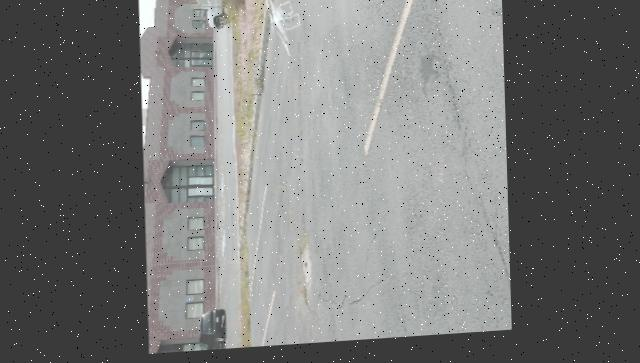drone: (262, 0, 303, 59)
